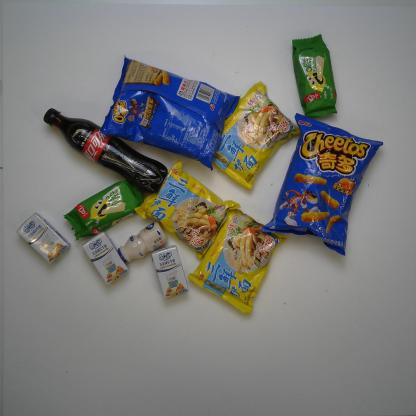Dessert: (64, 178, 146, 241), (292, 33, 338, 118)
Drink: (43, 107, 168, 194)
Instant Noodles: (202, 81, 302, 190), (187, 208, 289, 314), (134, 160, 242, 260)
Milk: (16, 213, 71, 265), (82, 230, 128, 284), (117, 221, 168, 265), (152, 245, 190, 298)
Puffed Food: (261, 113, 384, 256), (101, 54, 241, 171)
